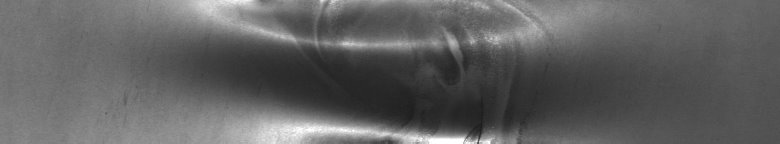ke: (224, 4, 543, 136)
